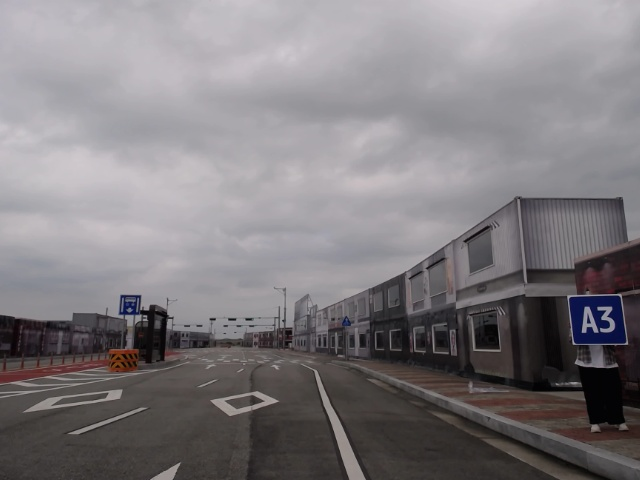delivery_a3: (568, 294, 628, 345)
